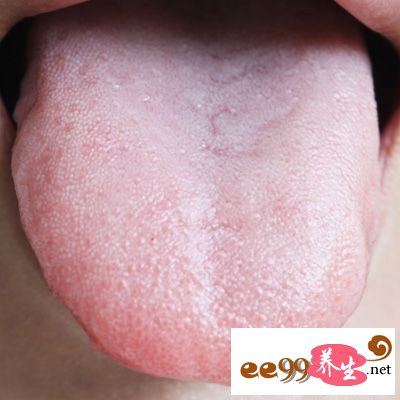baitaishe: (12, 20, 379, 385)
liewenshe: (203, 97, 229, 138)
